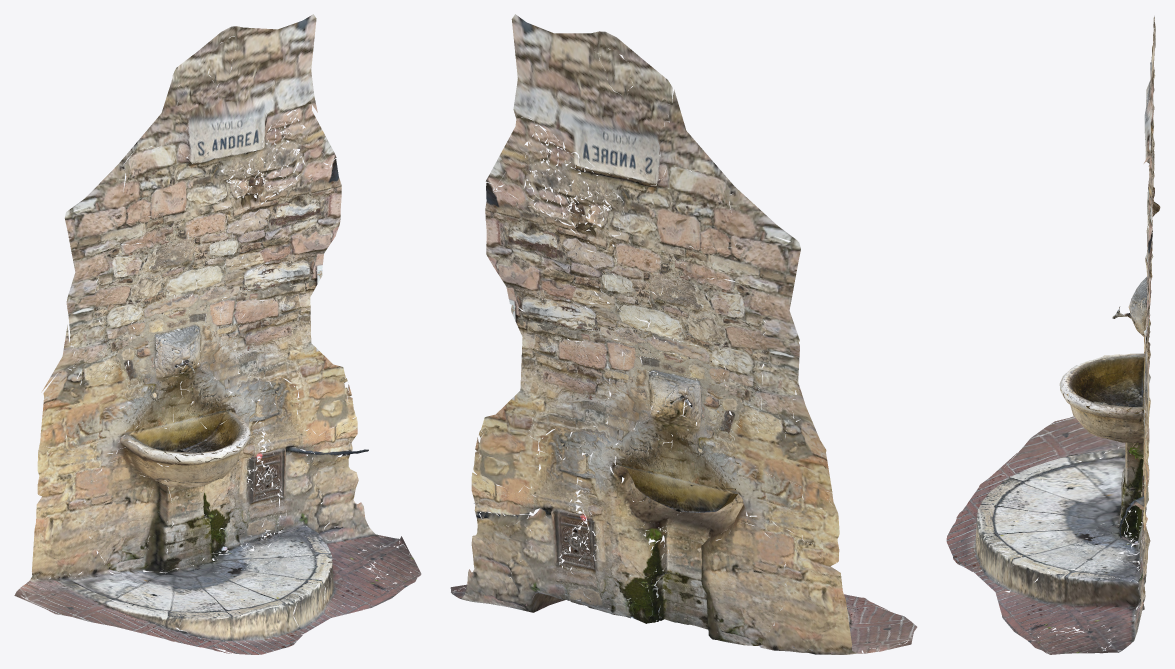
The model's file is wall_fountain.glb.
The picture shows the model from 3 angles, left to right: view 1: azimuth 30°, elevation 25°; view 2: azimuth 150°, elevation 25°; view 3: azimuth 270°, elevation 25°; orthographic projection. The views are drawn at different scales.
Parts seen in each view (by area): view 1: mesh_main_0, mesh_main_0.001; view 2: mesh_main_0, mesh_main_0.001; view 3: mesh_main_0.001, mesh_main_0.
Boxes of the visible parts, left/top/right/bottom form: mesh_main_0: left=14, top=14, right=421, bottom=653; mesh_main_0.001: left=27, top=104, right=420, bottom=654; mesh_main_0: left=450, top=14, right=917, bottom=654; mesh_main_0.001: left=451, top=117, right=863, bottom=654; mesh_main_0.001: left=946, top=94, right=1154, bottom=653; mesh_main_0: left=955, top=16, right=1160, bottom=654.
Bounding box in the file's own units: 2.82 × 3.73 × 1.27.
Materials: 1 (1 with a texture image).
